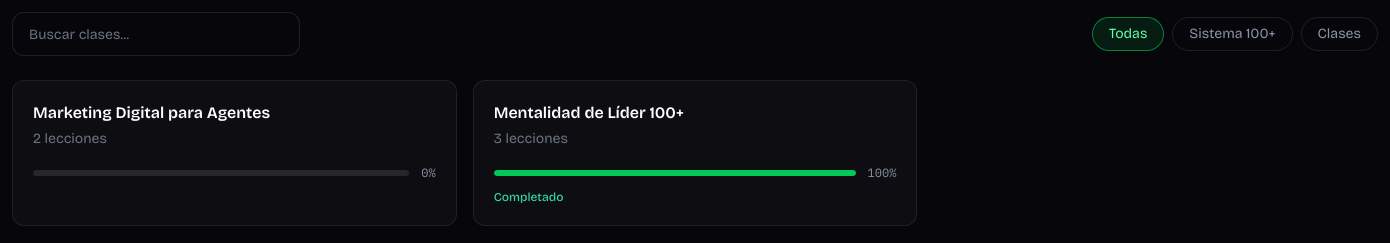
ClasesCatalogo › filtra por texto de búsqueda
Type "marketing" into the field labelled "Buscar clases".
click(156, 34); type("marketing")  # box [12,12,300,56]
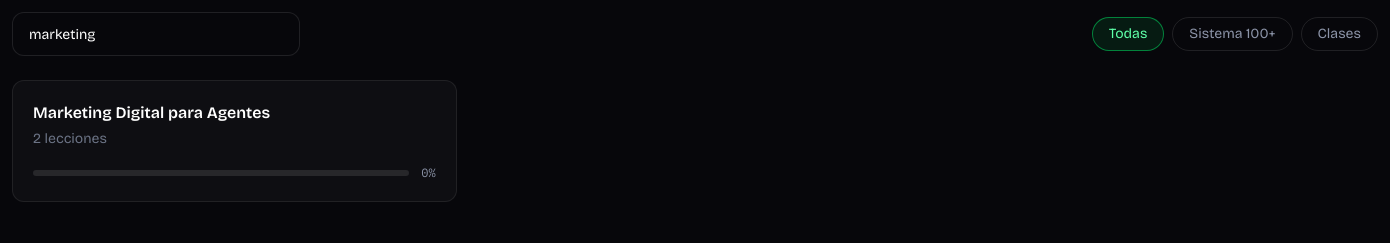
Expected: the heading "Marketing Digital para Agentes" is shown, [33,103,270,122]
Expected: the link "Mentalidad de Líder 100+" is gone
